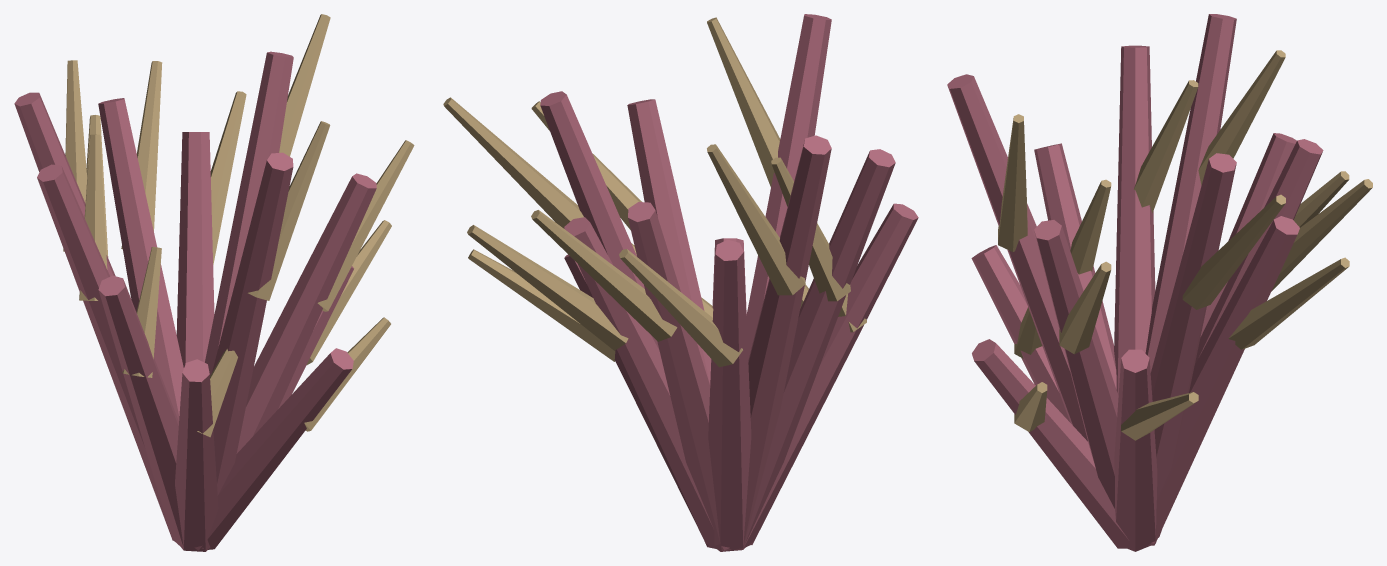
The model's file is nature-branching-coral.lod0.glb.
3 views of the same model, side by side, from view 1: azimuth 30°, elevation 25°; view 2: azimuth 150°, elevation 25°; view 3: azimuth 270°, elevation 25° (orthographic). The views are drawn at different scales.
Visible parts, largest first — view 1: nature-branching-coral__body; view 2: nature-branching-coral__body; view 3: nature-branching-coral__body.
Part boxes in pixels (<box>): nature-branching-coral__body: <box>14,14,414,551</box>; nature-branching-coral__body: <box>443,14,918,551</box>; nature-branching-coral__body: <box>947,14,1372,551</box>.
Size of the model in its own units: 0.7766 by 0.8836 by 0.7303.
